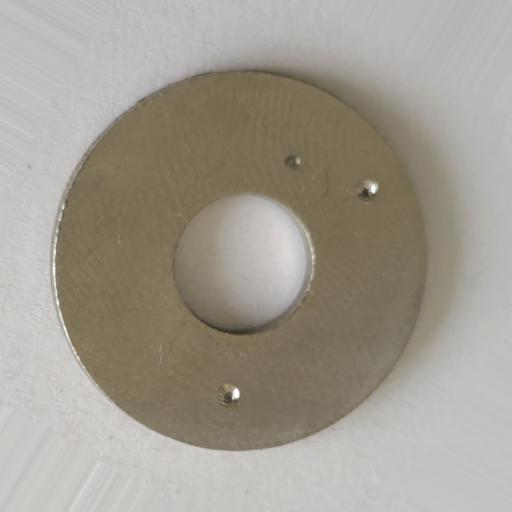circular_cavity: (353, 178, 379, 203), (215, 383, 241, 408), (284, 154, 301, 169)
